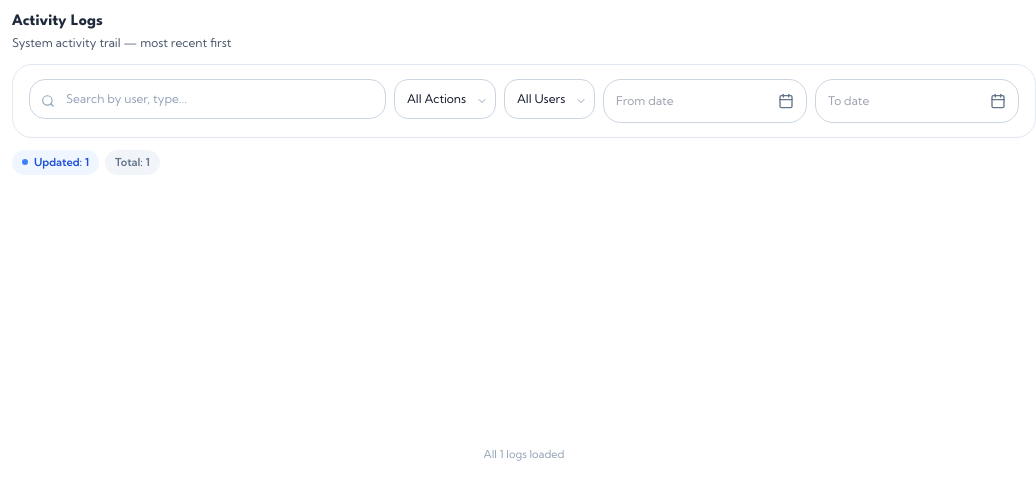
ActivityLogsView › empty state › shows 'No logs match your filters' after filtering with no results
This screenshot has width=1036, height=478.
Type "zzznomatch" into the field with placeholder "Search by user, type...".
click(208, 99); type("zzznomatch")  # box [29,79,386,119]
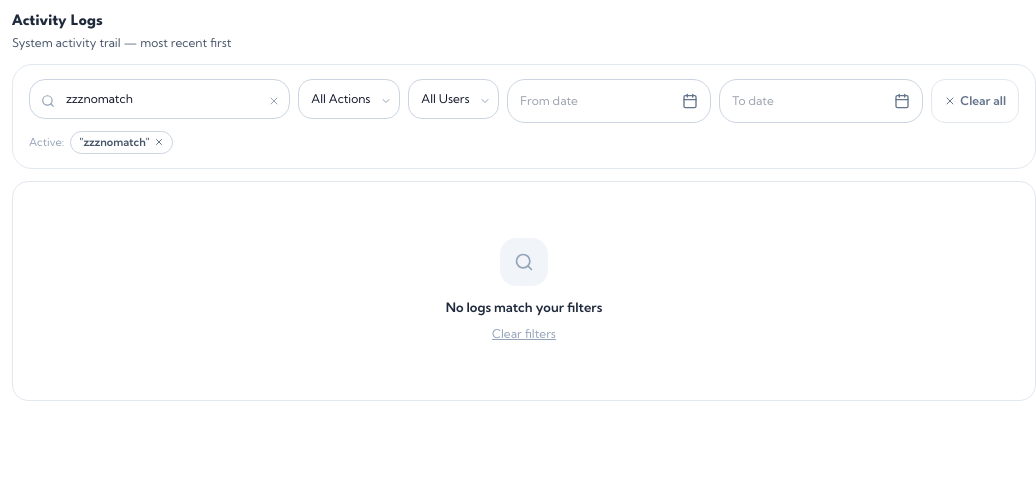
Result: the text "No logs match your filters" is shown at [446,298,602,314]
